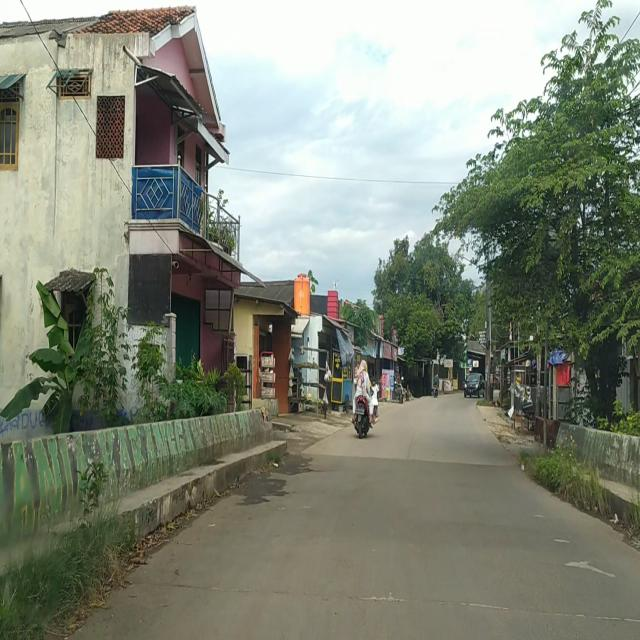Sewer Cover: (149, 578, 640, 622)
